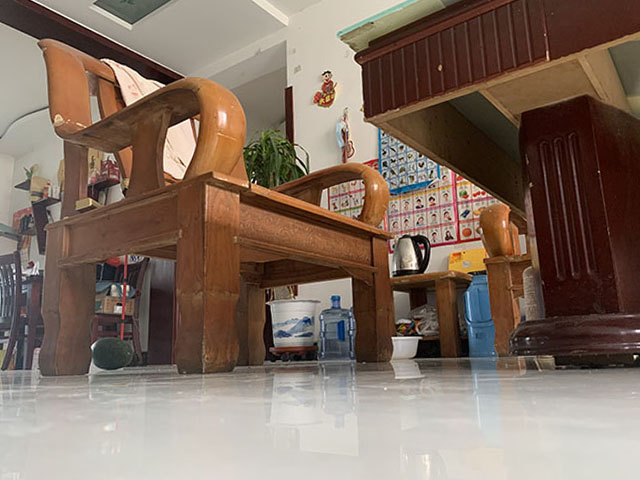sofa: (34, 36, 398, 376)
stool: (90, 255, 150, 368), (1, 248, 44, 373)
table: (391, 268, 473, 358)
